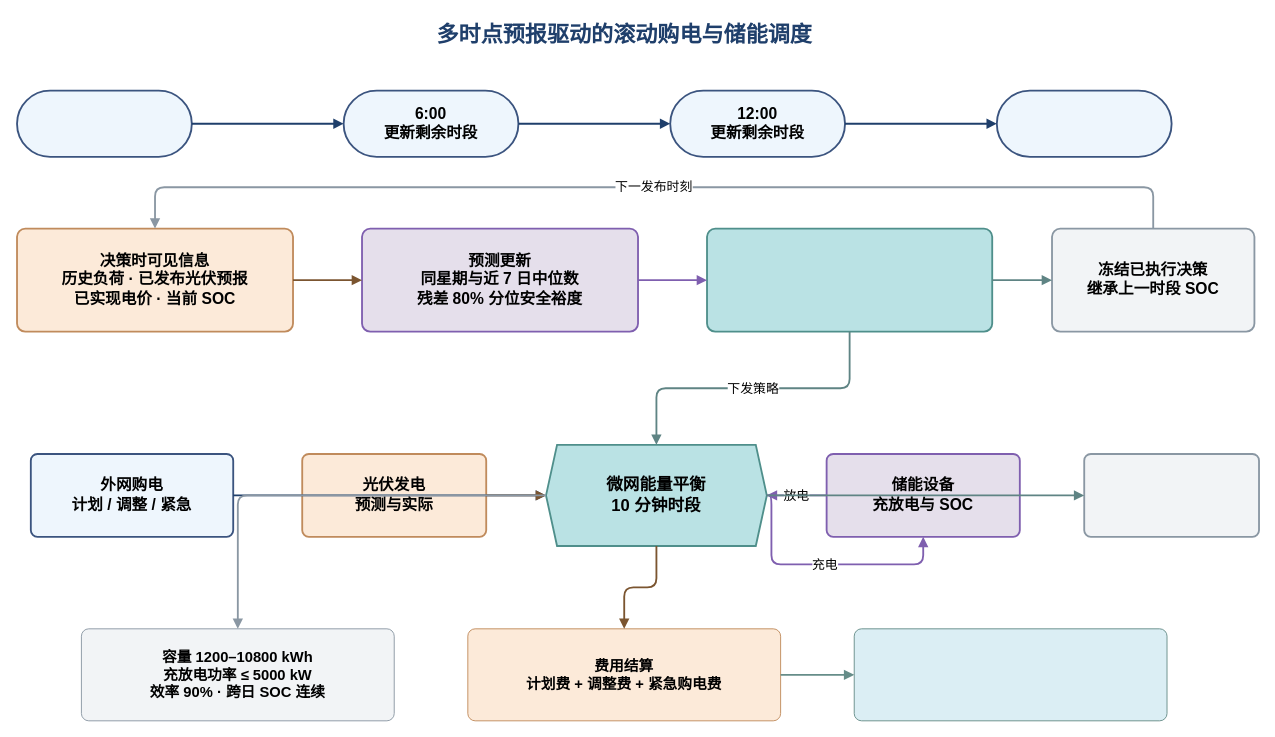
Image size: 1275x737. Some labels were removed from this diagram. Here are the shapes that lost their labels. From the top down, the box of each, then its label:
(16, 89, 192, 157): 0:00 制定原计划
(995, 89, 1172, 157): 18:00 更新剩余时段
(706, 227, 993, 332): 滚动线性规划 最小化计划、调整与紧急费用 只优化尚未执行时段
(1083, 453, 1259, 537): 小区负荷 必须完全满足
(853, 628, 1167, 721): 独立验证 供需回代 · SOC 接续 · 基线比较
